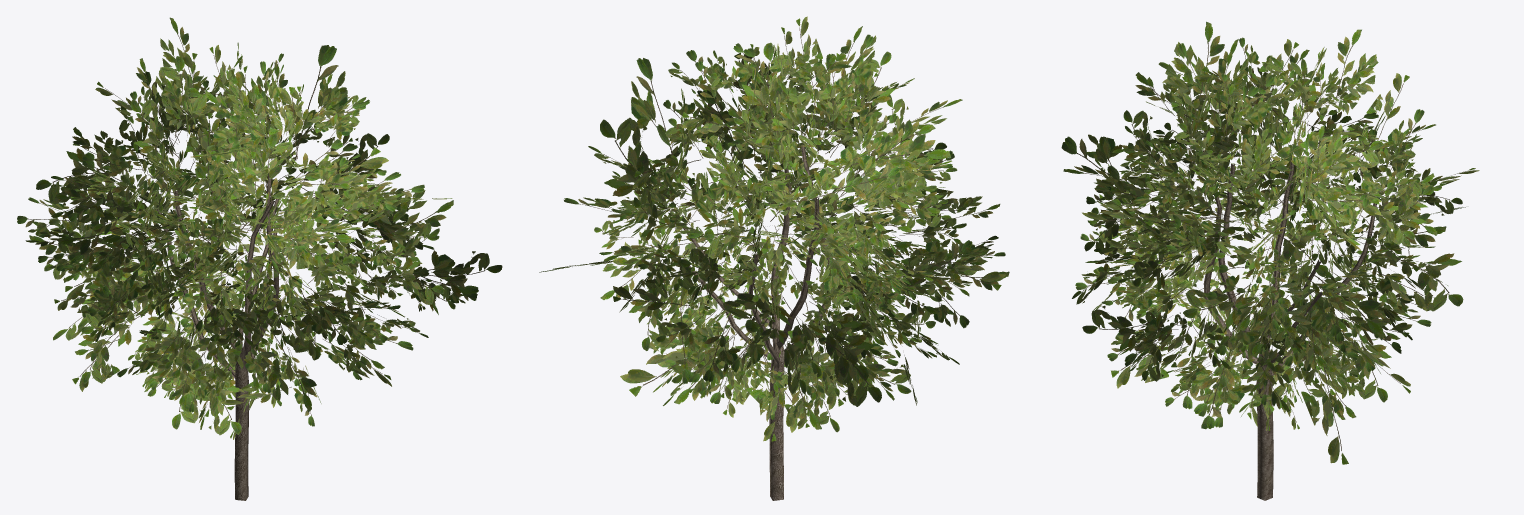
The model's file is tree_oak_v1_l1.glb.
3 renders of one model, left to right at view 1: azimuth 30°, elevation 25°; view 2: azimuth 150°, elevation 25°; view 3: azimuth 270°, elevation 25°, orthographic. The views are drawn at different scales.
Parts seen in each view (by area): view 1: tree_oak_v1_l1; view 2: tree_oak_v1_l1; view 3: tree_oak_v1_l1.
Boxes of the visible parts, x1,y1,x2,y2 form: tree_oak_v1_l1: (17, 17, 502, 500); tree_oak_v1_l1: (539, 16, 1009, 500); tree_oak_v1_l1: (1061, 21, 1479, 500).
Size of the model in its own units: 12.14 by 13.51 by 12.39.
2 materials, 2 textured.
